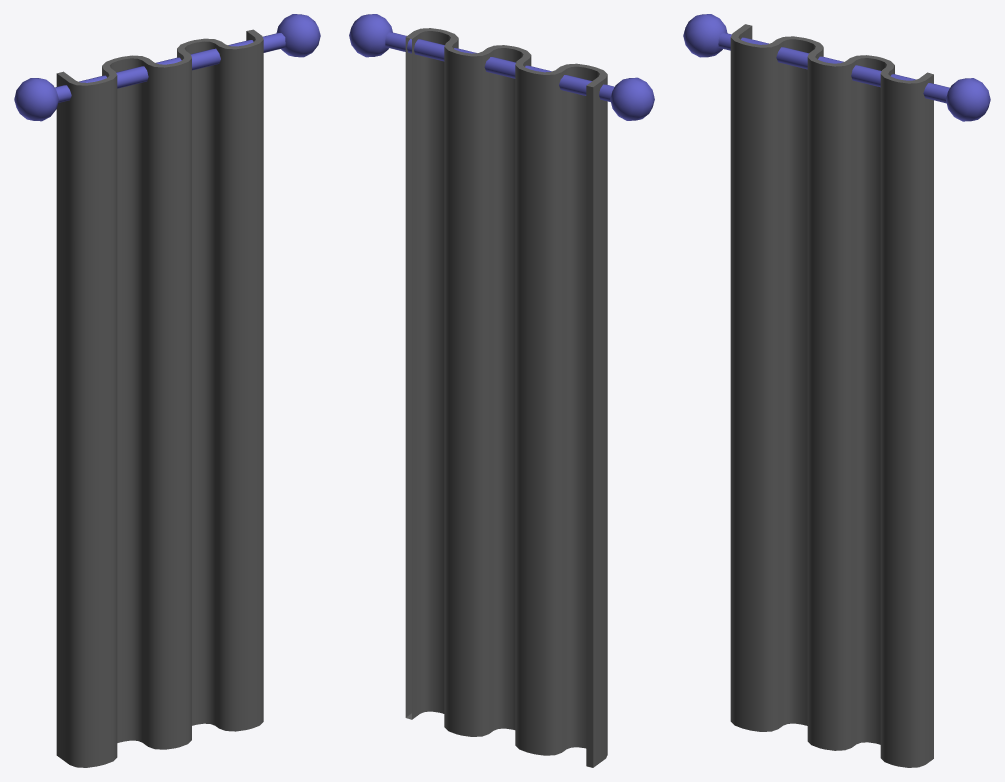
Rendered from SM_blinds_03.fbx.
3 renders of one model, left to right at view 1: azimuth 30°, elevation 25°; view 2: azimuth 150°, elevation 25°; view 3: azimuth 330°, elevation 25°, orthographic.
Visible parts, largest first — view 1: Line006; view 2: Line006; view 3: Line006.
Boxes of the visible parts, x1,y1,x2,y2 form: Line006: [14, 14, 320, 767]; Line006: [349, 14, 654, 767]; Line006: [683, 14, 990, 767].
Bounding box in the file's own units: 48.23 × 106 × 6.6.
